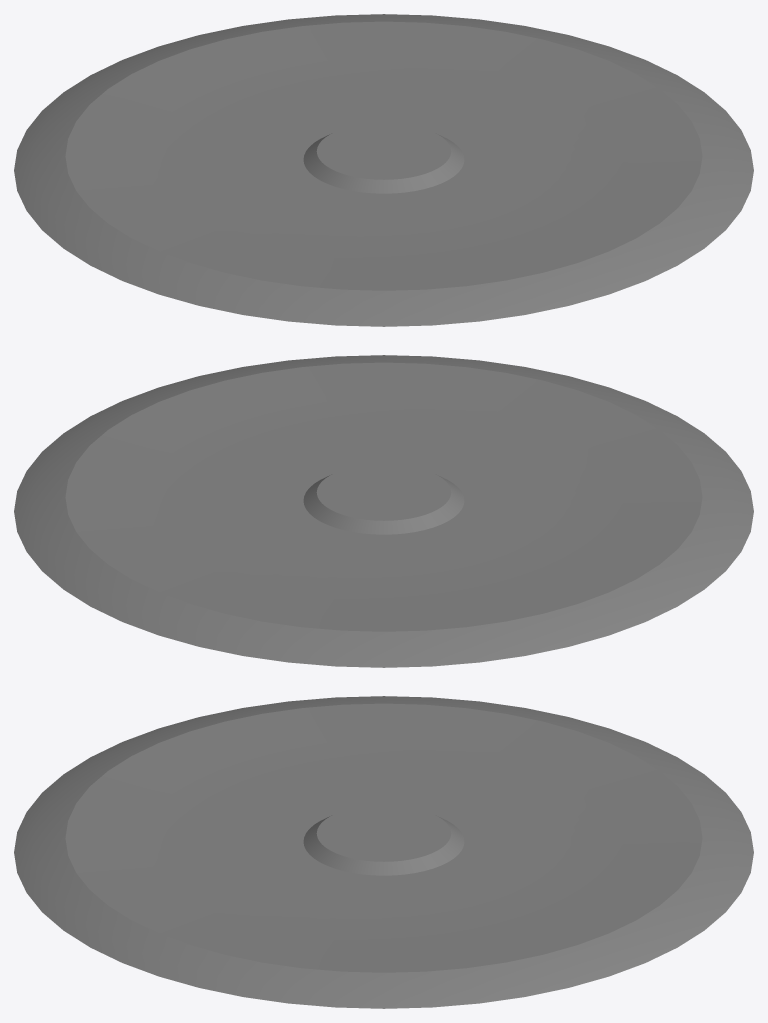
The model's file is q-scifi-mod-platform-round1.glb.
3 views of the same model, one above another, from view 1: azimuth 30°, elevation 25°; view 2: azimuth 150°, elevation 25°; view 3: azimuth 270°, elevation 25° (orthographic).
Visible parts, largest first — view 1: Platform_Round1; view 2: Platform_Round1; view 3: Platform_Round1.
Part boxes in pixels (<box>): Platform_Round1: <box>14,14,753,326</box>; Platform_Round1: <box>14,355,753,667</box>; Platform_Round1: <box>14,696,753,1008</box>.
Bounding box in the file's own units: 5.99 × 0.1702 × 5.99.
2 materials, 2 textured.
